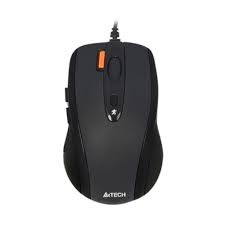mouse: (58, 35, 165, 207)
